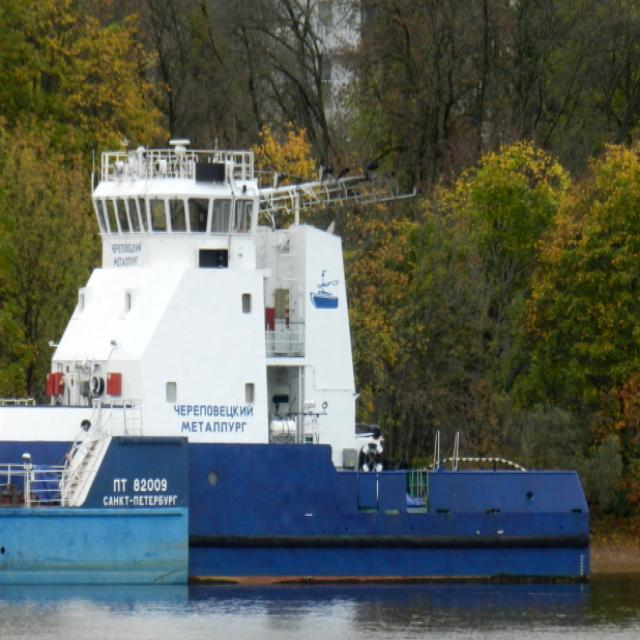tugboat: (1, 135, 608, 605)
